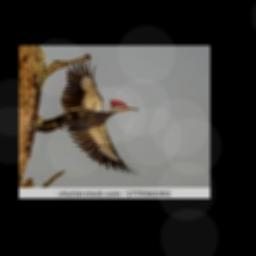Woodpecker: (34, 59, 141, 177)
